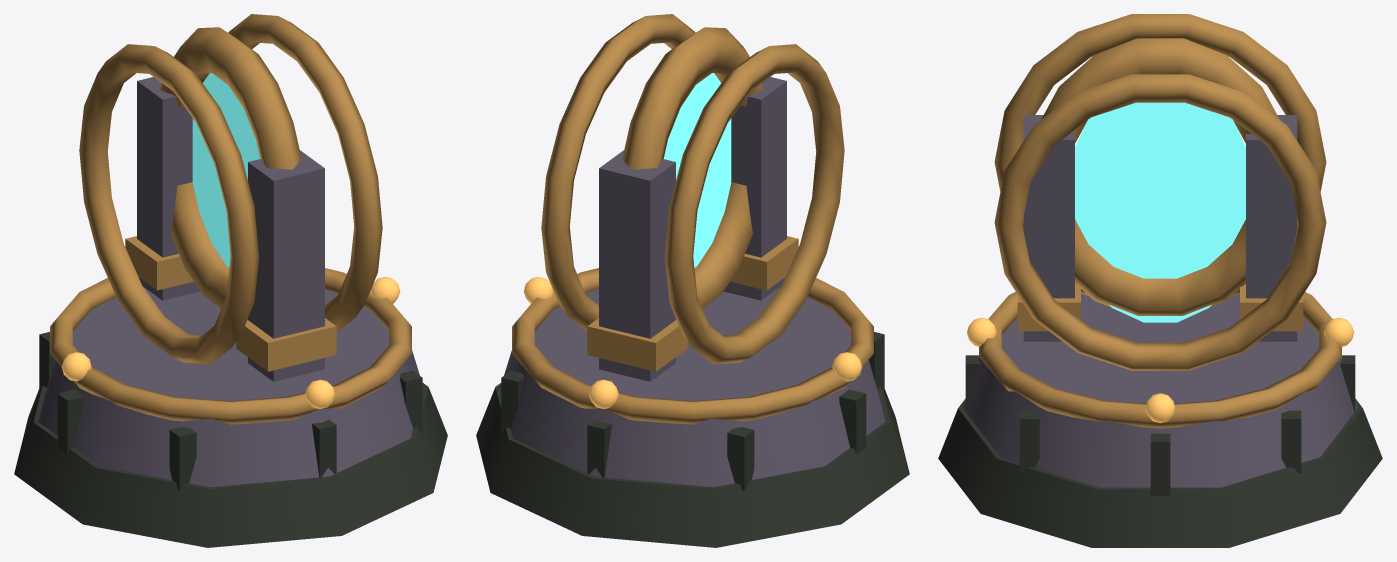
Rendered from tower_portal_portalArch.glb.
The picture shows the model from 3 angles, left to right: view 1: azimuth 30°, elevation 25°; view 2: azimuth 150°, elevation 25°; view 3: azimuth 270°, elevation 25°; orthographic projection.
Visible parts, largest first — view 1: stone_1, foot_0, return_arch_21, arch_pillar_15, rim_2, arch_19, return_arch_22, arch_pillar_17, portal_surface_20, band_16, band_18, mortar_6 (+7 smaller); view 2: stone_1, foot_0, return_arch_21, arch_pillar_17, rim_2, arch_19, return_arch_22, arch_pillar_15, portal_surface_20, band_18, band_16, mortar_8 (+7 smaller); view 3: stone_1, foot_0, portal_surface_20, return_arch_22, arch_19, return_arch_21, rim_2, arch_pillar_15, arch_pillar_17, mortar_3, mortar_4, mortar_10 (+7 smaller).
Boxes of the visible parts, bbox=[...] form: stone_1: bbox=[38, 287, 423, 487]; foot_0: bbox=[14, 383, 447, 547]; return_arch_21: bbox=[79, 44, 259, 364]; arch_pillar_15: bbox=[248, 150, 324, 381]; rim_2: bbox=[50, 268, 411, 424]; arch_19: bbox=[160, 27, 301, 308]; return_arch_22: bbox=[228, 14, 382, 331]; arch_pillar_17: bbox=[137, 77, 200, 300]; portal_surface_20: bbox=[192, 73, 260, 267]; band_16: bbox=[236, 318, 336, 371]; band_18: bbox=[125, 236, 193, 290]; mortar_6: bbox=[169, 427, 196, 490]; stone_1: bbox=[500, 287, 885, 487]; foot_0: bbox=[476, 383, 909, 547]; return_arch_21: bbox=[664, 44, 844, 364]; arch_pillar_17: bbox=[599, 150, 675, 381]; rim_2: bbox=[512, 268, 873, 424]; arch_19: bbox=[622, 27, 763, 308]; return_arch_22: bbox=[541, 14, 695, 331]; arch_pillar_15: bbox=[723, 77, 786, 300]; portal_surface_20: bbox=[663, 73, 731, 267]; band_18: bbox=[587, 318, 687, 371]; band_16: bbox=[730, 236, 798, 290]; mortar_8: bbox=[727, 427, 754, 490]; stone_1: bbox=[963, 293, 1357, 487]; foot_0: bbox=[938, 398, 1382, 547]; portal_surface_20: bbox=[1075, 102, 1245, 322]; return_arch_22: bbox=[994, 74, 1326, 370]; arch_19: bbox=[1041, 38, 1279, 315]; return_arch_21: bbox=[994, 14, 1326, 295]; rim_2: bbox=[979, 292, 1341, 428]; arch_pillar_15: bbox=[1023, 115, 1074, 341]; arch_pillar_17: bbox=[1246, 115, 1297, 341]; mortar_3: bbox=[1150, 433, 1170, 495]; mortar_4: bbox=[1019, 410, 1039, 472]; mortar_10: bbox=[1281, 410, 1301, 472].
Size of the model in its own units: 0.5326 by 0.5841 by 0.56.
